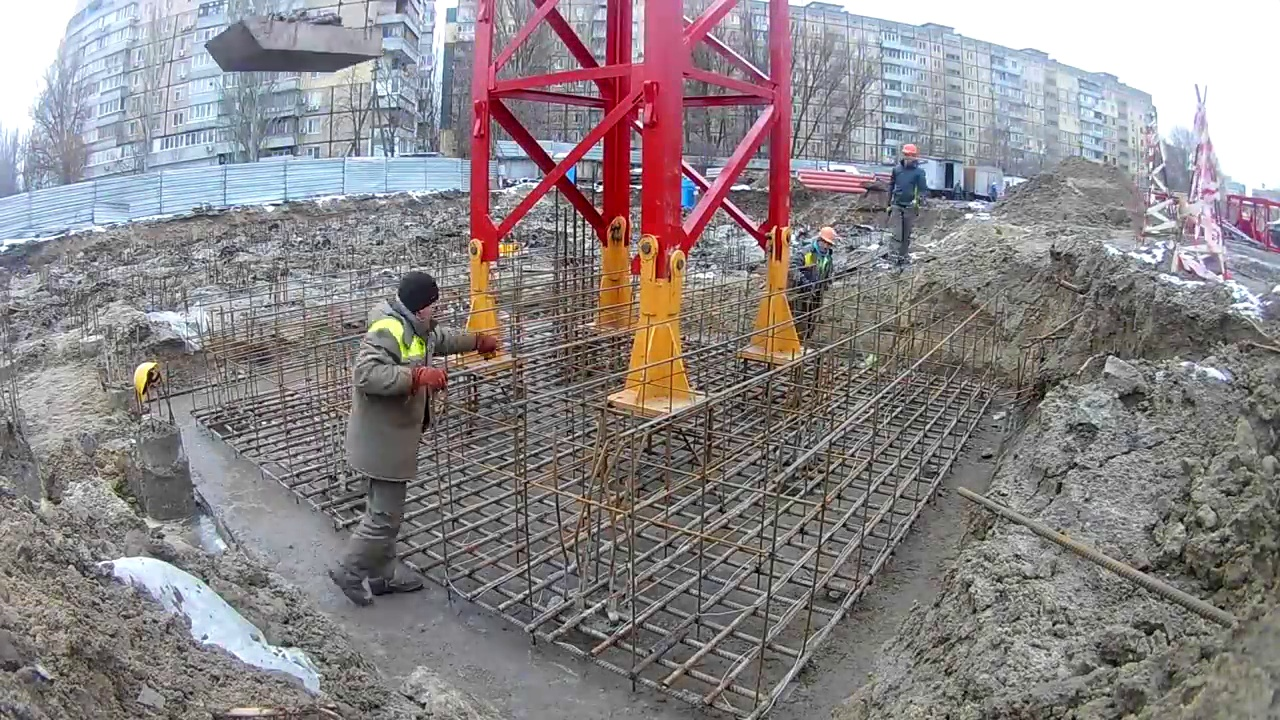helmet: (132, 360, 161, 401), (817, 226, 837, 246), (900, 144, 919, 156)
helmet-off: (396, 274, 440, 326)
helmet-on: (812, 225, 838, 256), (900, 142, 919, 163)
person: (326, 269, 498, 605), (881, 142, 934, 265), (786, 225, 838, 343)
